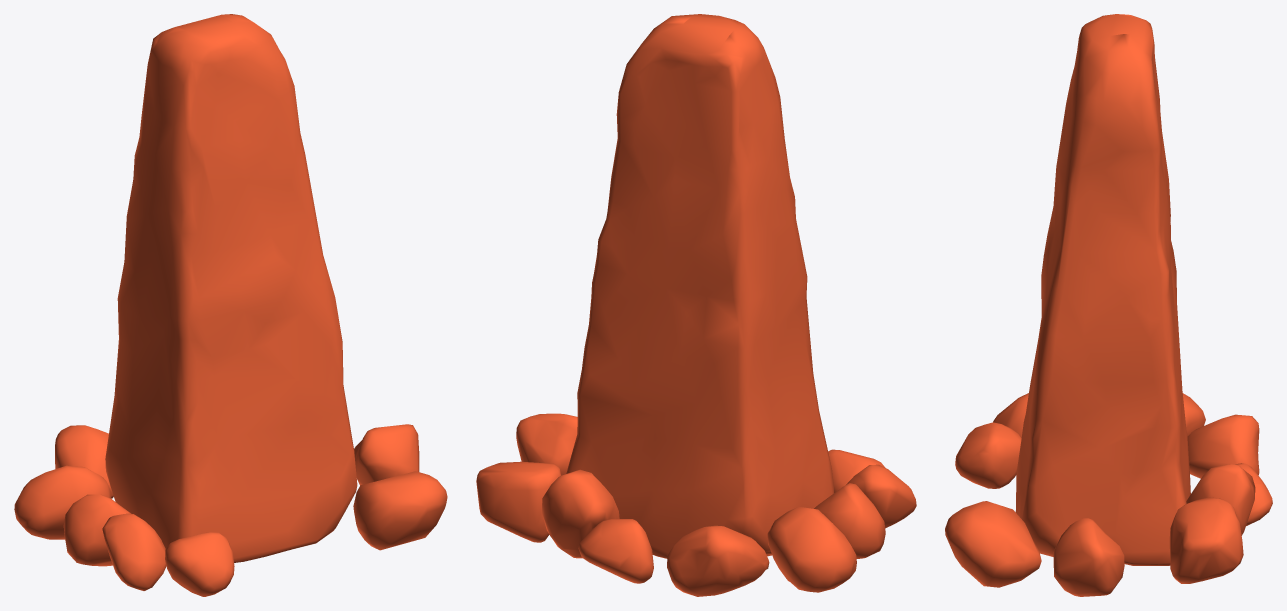
The picture shows the model from 3 angles, left to right: view 1: azimuth 30°, elevation 25°; view 2: azimuth 150°, elevation 25°; view 3: azimuth 270°, elevation 25°; orthographic projection. The views are drawn at different scales.
Visible parts, largest first — view 1: Roca39; view 2: Roca39; view 3: Roca39.
Boxes of the visible parts, left/top/right/bottom form: Roca39: left=14, top=14, right=447, bottom=596; Roca39: left=476, top=14, right=916, bottom=596; Roca39: left=945, top=14, right=1272, bottom=596.
Size of the model in its own units: 345 by 458 by 276.
